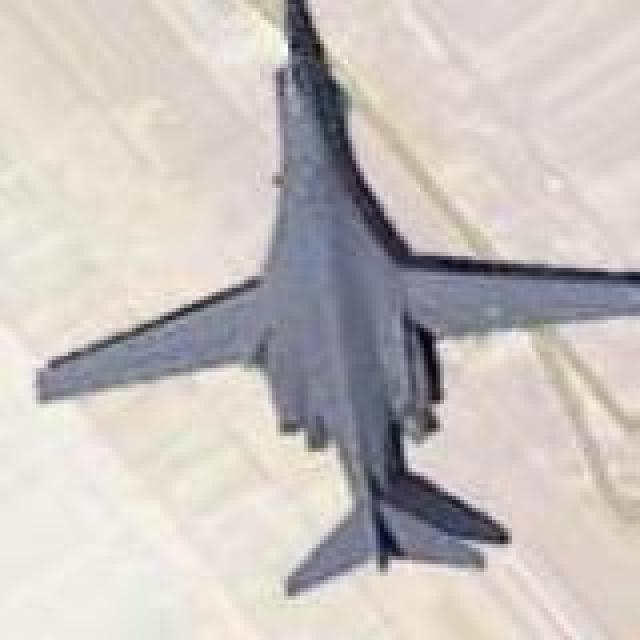B-1_TopDown: (28, 0, 636, 596)
